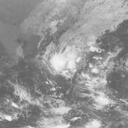cyclone: (49, 51, 75, 77)
